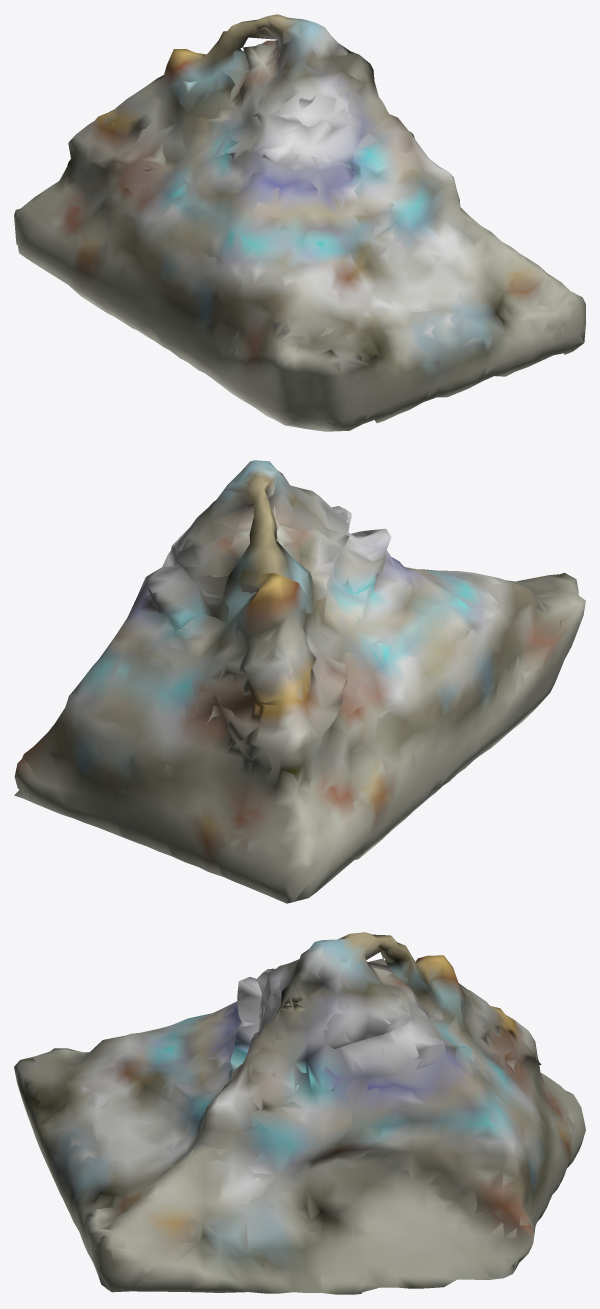
The model's file is time_machine.glb.
3 views of the same model, one above another, from view 1: azimuth 30°, elevation 25°; view 2: azimuth 150°, elevation 25°; view 3: azimuth 270°, elevation 25° (orthographic). The views are drawn at different scales.
Parts seen in each view (by area): view 1: time_machine; view 2: time_machine; view 3: time_machine.
Boxes of the visible parts, box(x1,y1,x2,y2) form: time_machine: box(14, 14, 585, 431); time_machine: box(14, 460, 585, 903); time_machine: box(14, 932, 585, 1294).
Bounding box in the file's own units: 1.48 × 1.15 × 2.16.
